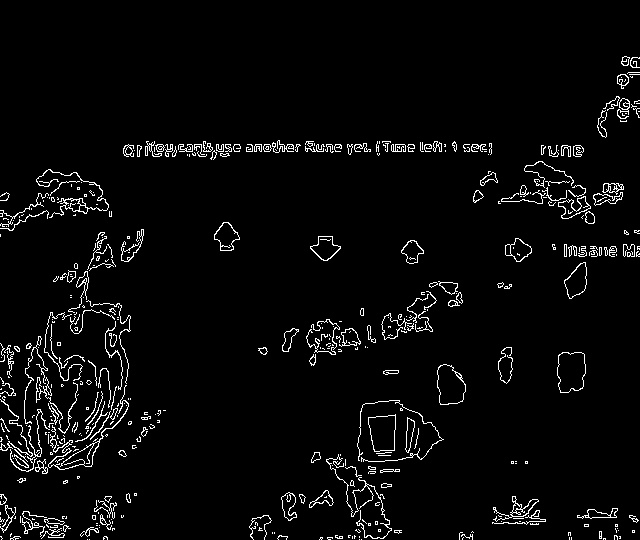down: (306, 230, 344, 269)
right: (497, 232, 536, 267)
up: (209, 216, 248, 260), (396, 235, 430, 271)
